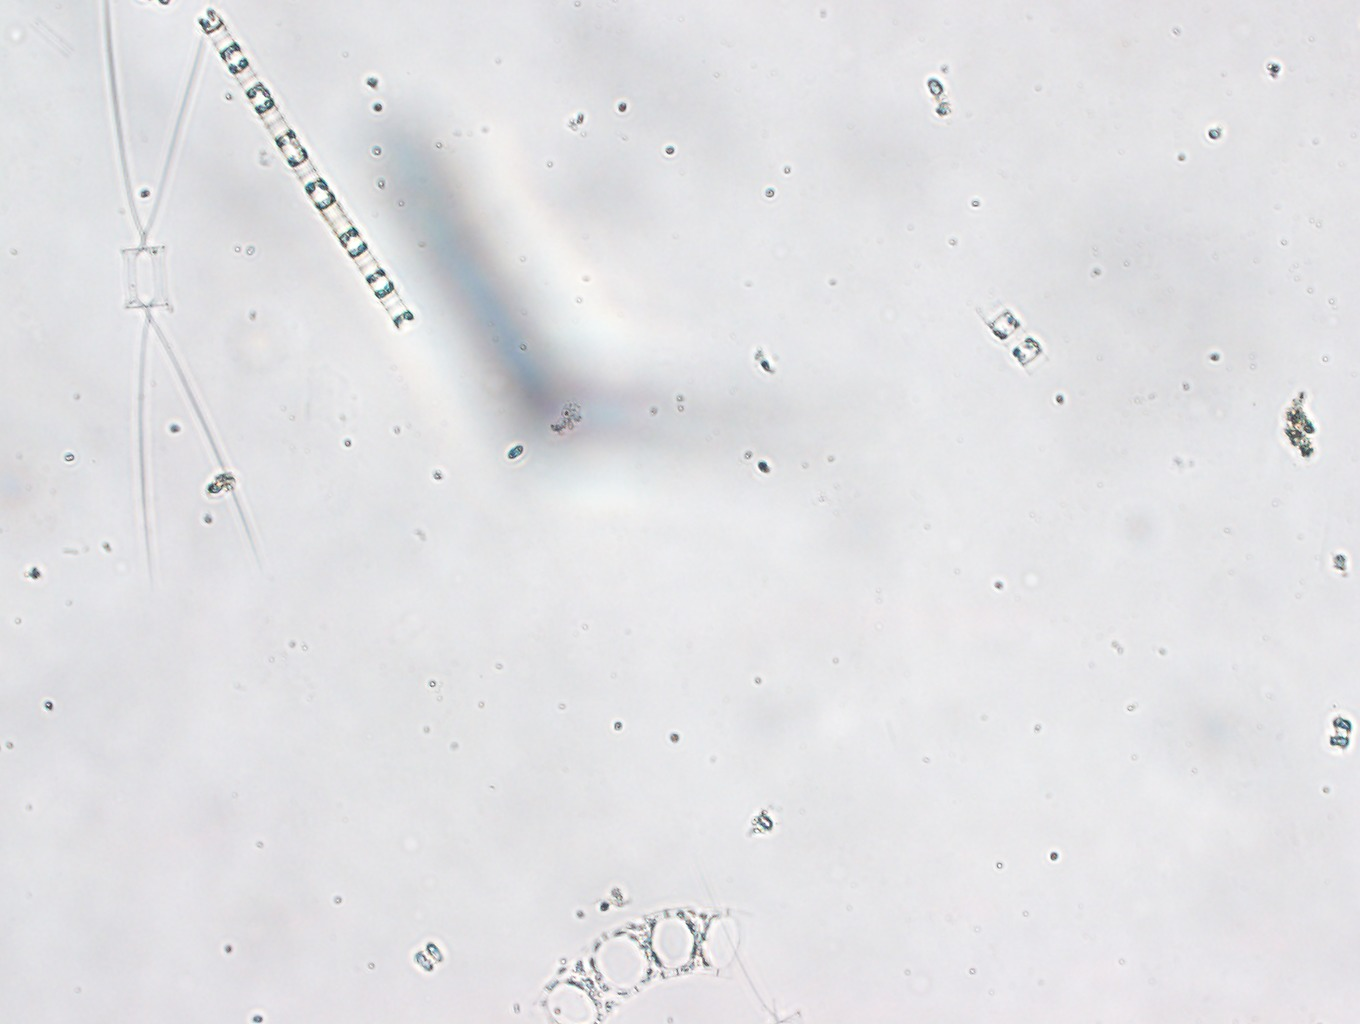chaetoceros: (103, 1, 267, 582)
eucampia: (528, 905, 733, 1024)
skeletonema: (196, 6, 414, 332), (971, 291, 1046, 380)
